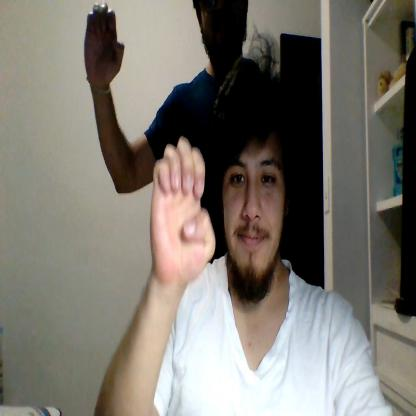E: (150, 138, 215, 281), (84, 2, 124, 81)
